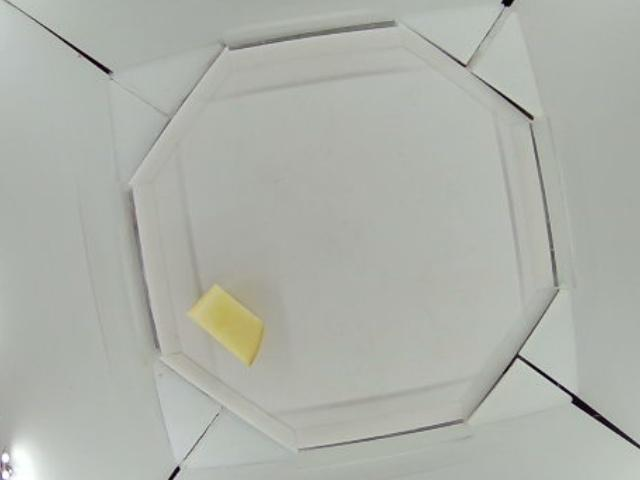Potato: (185, 282, 264, 366)
